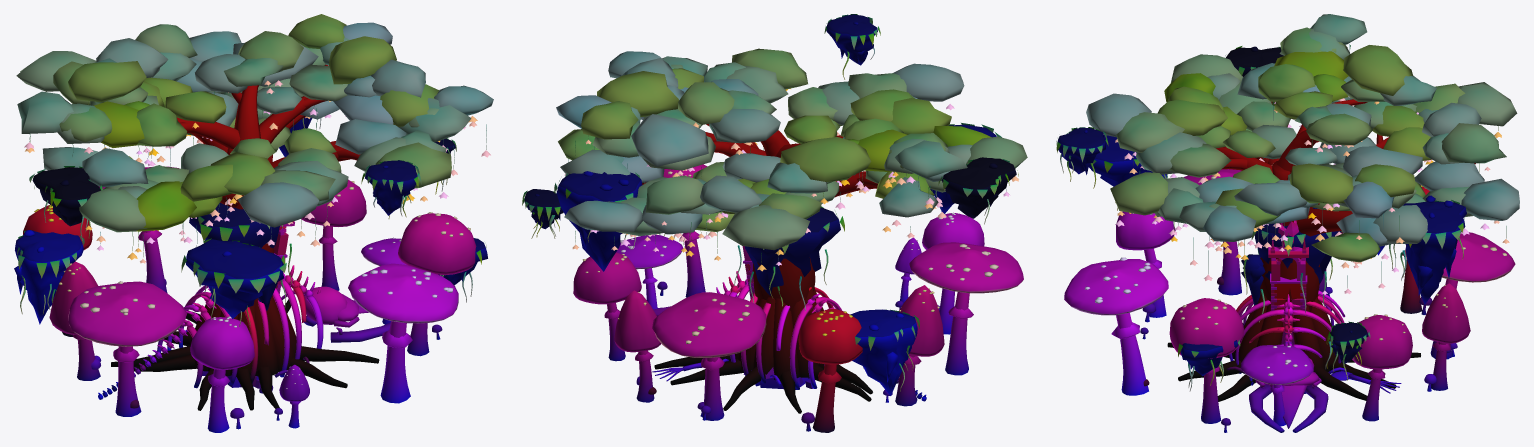
File: wonders.fbx
3 views of the same model, side by side, from view 1: azimuth 30°, elevation 25°; view 2: azimuth 150°, elevation 25°; view 3: azimuth 270°, elevation 25° (orthographic). The views are drawn at different scales.
Visible parts, largest first — view 1: MoonTree, MushroomRing, WhaleSkeleton, FloatingRock_4, FloatingRock_1, FloatingRock_6, FloatingRock_0, FloatingRock_5, BellTower, FloatingRock_3; view 2: MoonTree, MushroomRing, FloatingRock_1, FloatingRock_2, FloatingRock_0, FloatingRock_6, WhaleSkeleton, FloatingRock_5, FloatingRock_7, BellTower, FloatingRock_4; view 3: MoonTree, MushroomRing, WhaleSkeleton, FloatingRock_2, FloatingRock_0, BellTower, FloatingRock_5, FloatingRock_4, FloatingRock_7, FloatingRock_3, FloatingRock_6.
Boxes of the visible parts, x1=… form: MoonTree: x1=16, y1=14, x2=493, y2=410; MushroomRing: x1=23, y1=166, x2=476, y2=432; WhaleSkeleton: x1=98, y1=265, x2=390, y2=399; FloatingRock_4: x1=181, y1=238, x2=286, y2=326; FloatingRock_1: x1=14, y1=230, x2=84, y2=324; FloatingRock_6: x1=29, y1=166, x2=102, y2=240; FloatingRock_0: x1=189, y1=202, x2=291, y2=310; FloatingRock_5: x1=361, y1=160, x2=421, y2=218; BellTower: x1=202, y1=221, x2=294, y2=393; FloatingRock_3: x1=438, y1=238, x2=487, y2=302; MoonTree: x1=556, y1=48, x2=1027, y2=413; MushroomRing: x1=573, y1=164, x2=1023, y2=432; FloatingRock_1: x1=850, y1=309, x2=919, y2=395; FloatingRock_2: x1=554, y1=171, x2=644, y2=271; FloatingRock_0: x1=734, y1=206, x2=844, y2=311; FloatingRock_6: x1=938, y1=157, x2=1018, y2=224; WhaleSkeleton: x1=652, y1=271, x2=926, y2=401; FloatingRock_5: x1=824, y1=14, x2=880, y2=79; FloatingRock_7: x1=522, y1=189, x2=565, y2=238; BellTower: x1=742, y1=246, x2=812, y2=389; FloatingRock_4: x1=930, y1=123, x2=1001, y2=213; MoonTree: x1=1086, y1=14, x2=1519, y2=401; MushroomRing: x1=1064, y1=169, x2=1515, y2=432; WhaleSkeleton: x1=1221, y1=290, x2=1401, y2=432; FloatingRock_2: x1=1389, y1=195, x2=1466, y2=304; FloatingRock_0: x1=1241, y1=207, x2=1342, y2=333; BellTower: x1=1268, y1=220, x2=1329, y2=393; FloatingRock_5: x1=1056, y1=127, x2=1108, y2=188; FloatingRock_4: x1=1089, y1=135, x2=1167, y2=210; FloatingRock_7: x1=1325, y1=321, x2=1370, y2=380; FloatingRock_3: x1=1177, y1=340, x2=1240, y2=391; FloatingRock_6: x1=1225, y1=46, x2=1283, y2=76.
Bounding box in the file's own units: 72.44 × 47.02 × 67.52.
